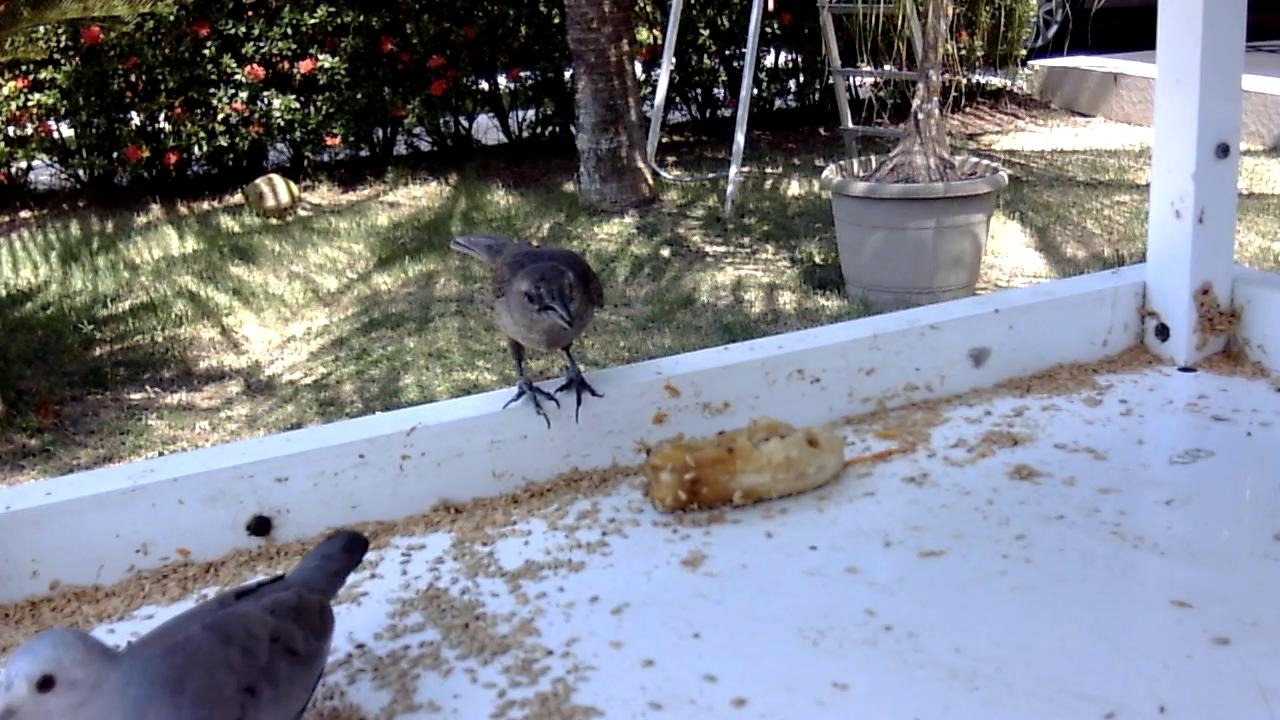chupim: (446, 235, 609, 436)
rolinha: (1, 526, 376, 720)
